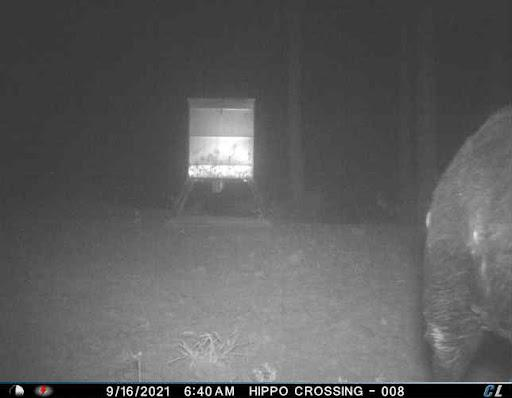Hog: (417, 102, 511, 360)
